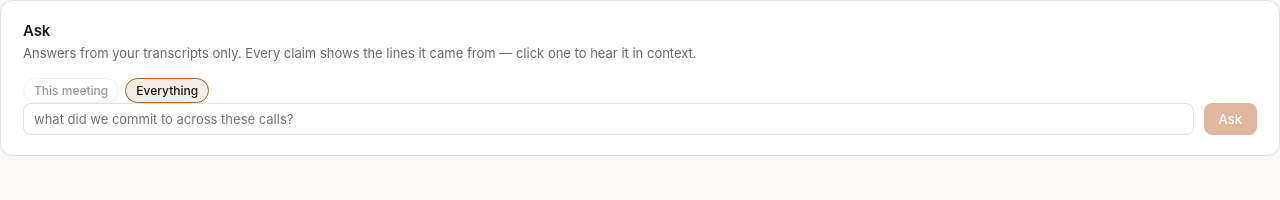
Test: ChatCard › surfaces a failure instead of showing a blank answer
Step 1. Type "q" into the field named "ask a question" → (608, 118), box [23, 102, 1194, 134]
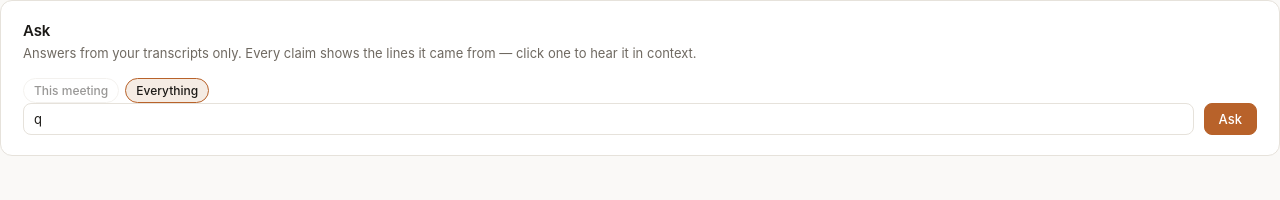
Step 2. Click the button "Ask" → click(1230, 118), box [1204, 102, 1257, 134]
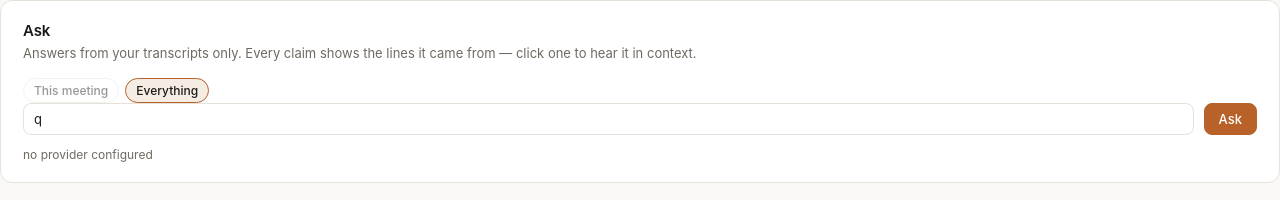
Expected: the text "no provider configured" is shown, [23, 146, 153, 162]
